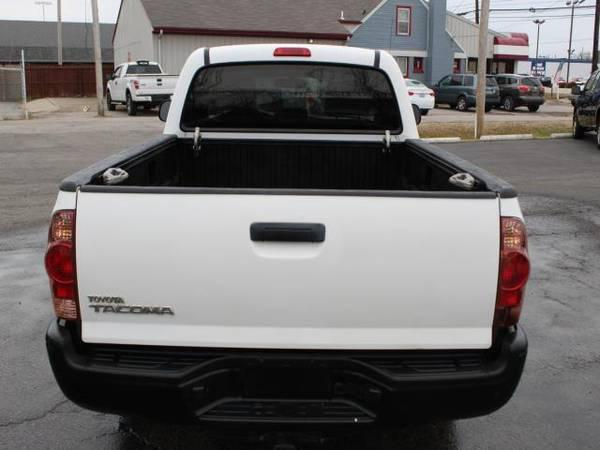Left_Taillight: (42, 204, 81, 328)
Rear_Bumper: (45, 322, 529, 424)
Rear_Windshield: (165, 45, 416, 140)
Right_Taillight: (491, 219, 532, 341)
Tailgate: (57, 185, 522, 351)
